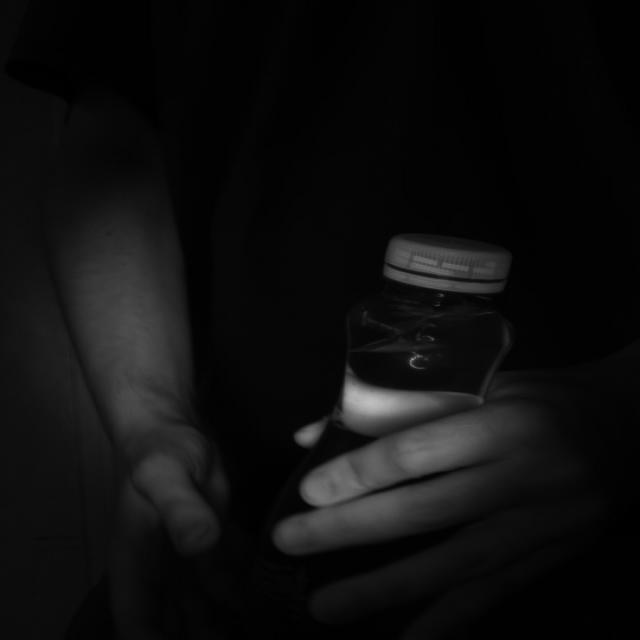Not Good: (382, 236, 511, 296)
